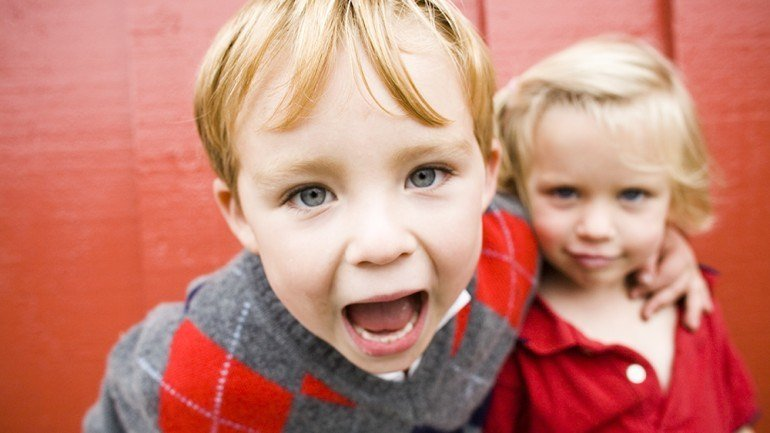person: (68, 2, 523, 433), (501, 26, 744, 433)
